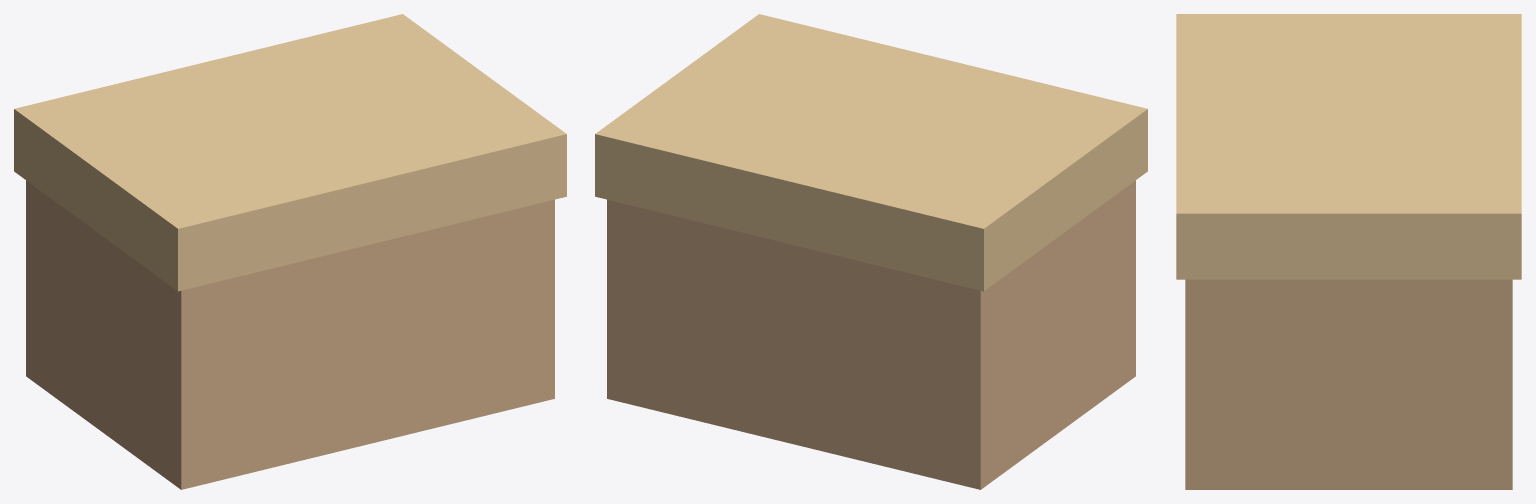
File: chest.glb
3 renders of one model, left to right at view 1: azimuth 30°, elevation 25°; view 2: azimuth 150°, elevation 25°; view 3: azimuth 270°, elevation 25°, orthographic. The views are drawn at different scales.
Parts seen in each view (by area): view 1: box, lid; view 2: box, lid; view 3: lid, box.
Part boxes in pixels (left/top/right/bottom): box: left=26, top=180, right=554, bottom=489; lid: left=14, top=14, right=566, bottom=291; box: left=607, top=180, right=1135, bottom=489; lid: left=595, top=14, right=1147, bottom=291; lid: left=1176, top=14, right=1521, bottom=279; box: left=1185, top=279, right=1512, bottom=489.
Bounding box in the file's own units: 0.52 × 0.34 × 0.38.
